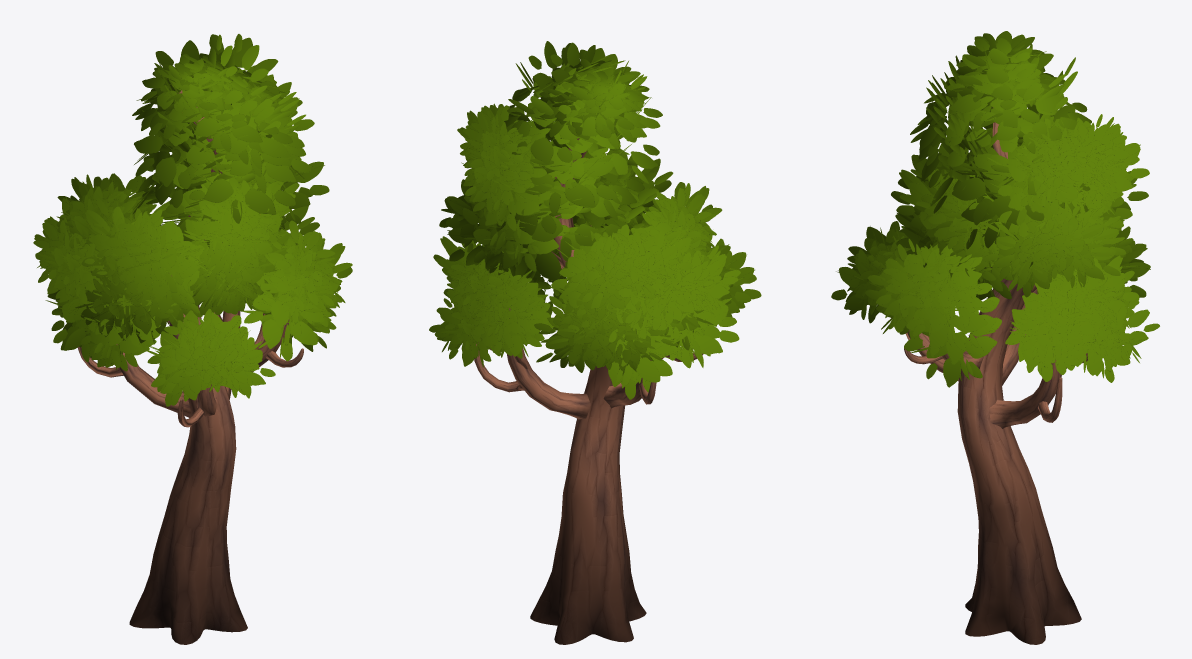
Rendered from commontree_2.glb.
3 renders of one model, left to right at view 1: azimuth 30°, elevation 25°; view 2: azimuth 150°, elevation 25°; view 3: azimuth 270°, elevation 25°, orthographic. The views are drawn at different scales.
Parts seen in each view (by area): view 1: CommonTree_2; view 2: CommonTree_2; view 3: CommonTree_2.
Boxes of the visible parts, x1,y1,x2,y2 form: CommonTree_2: (33,34,352,644); CommonTree_2: (429,41,761,644); CommonTree_2: (831,31,1159,644).
Size of the model in its own units: 4.46 by 7.64 by 4.28.
2 materials, 2 textured.
